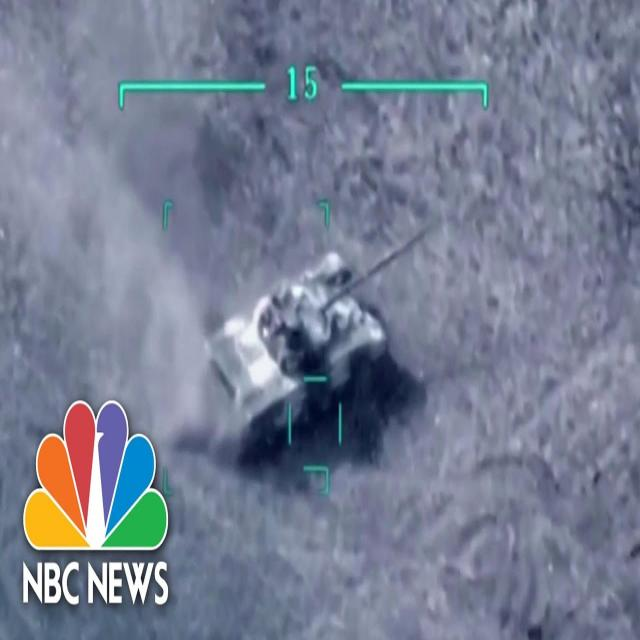tank: (204, 252, 389, 449)
